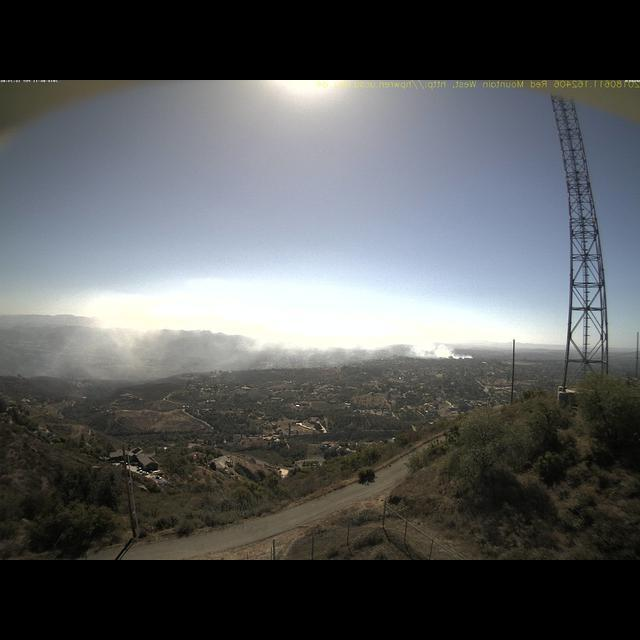Smoke: (35, 314, 475, 385)
